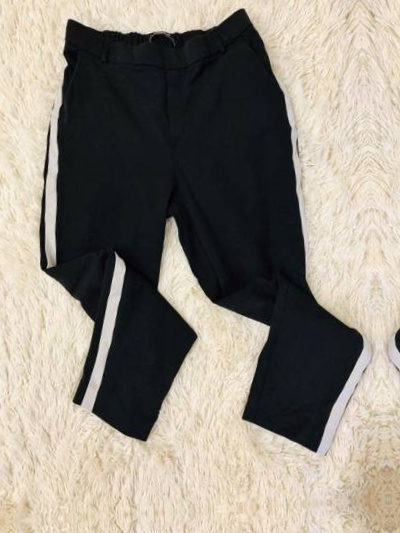Pants: (13, 0, 369, 465), (375, 0, 400, 444)
